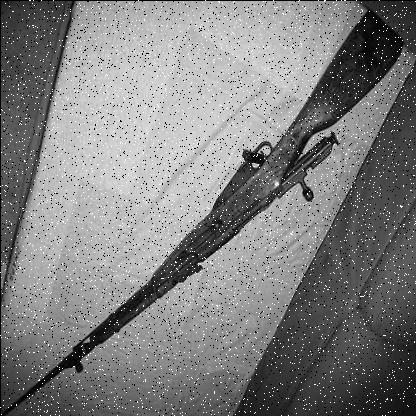rifle: (65, 1, 416, 364)
